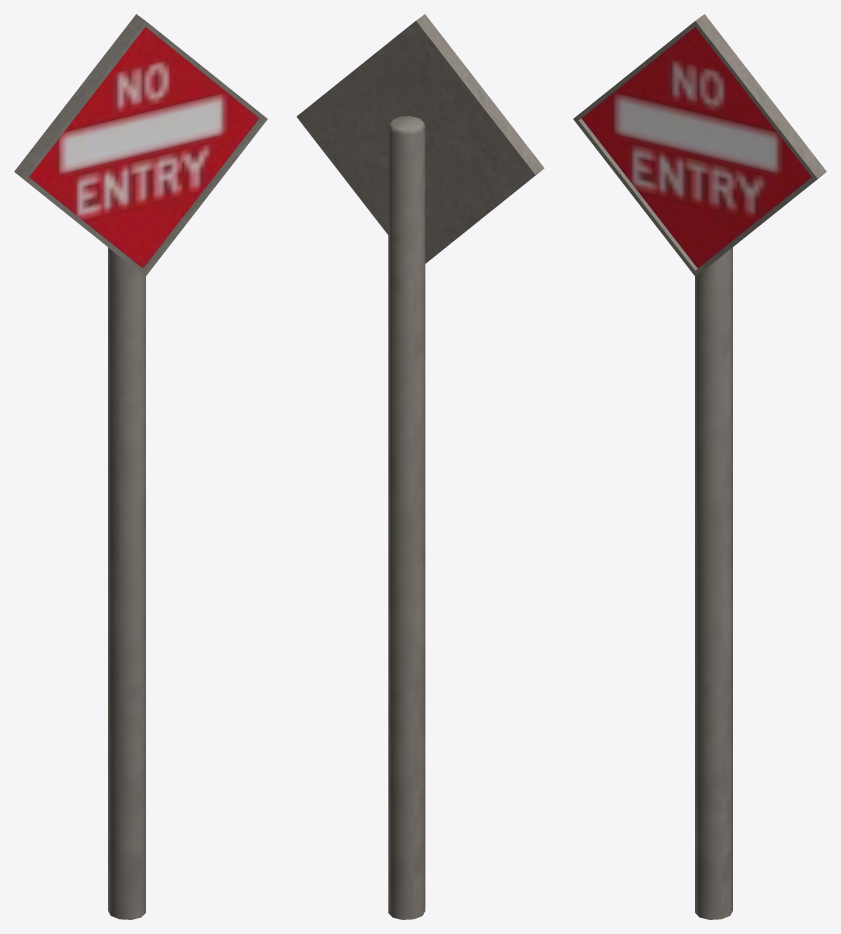
Rendered from panneau_sens_interdit.glb.
The picture shows the model from 3 angles, left to right: view 1: azimuth 30°, elevation 25°; view 2: azimuth 150°, elevation 25°; view 3: azimuth 330°, elevation 25°; orthographic projection. The views are drawn at different scales.
Visible parts, largest first — view 1: No_Entry_Sign; view 2: No_Entry_Sign; view 3: No_Entry_Sign.
Boxes of the visible parts, x1,y1,x2,y2 form: No_Entry_Sign: (14,14,267,919); No_Entry_Sign: (296,14,544,919); No_Entry_Sign: (573,14,826,919).
Size of the model in its own units: 0.4525 by 1.6 by 0.09.
Materials: 2 (2 with a texture image).
